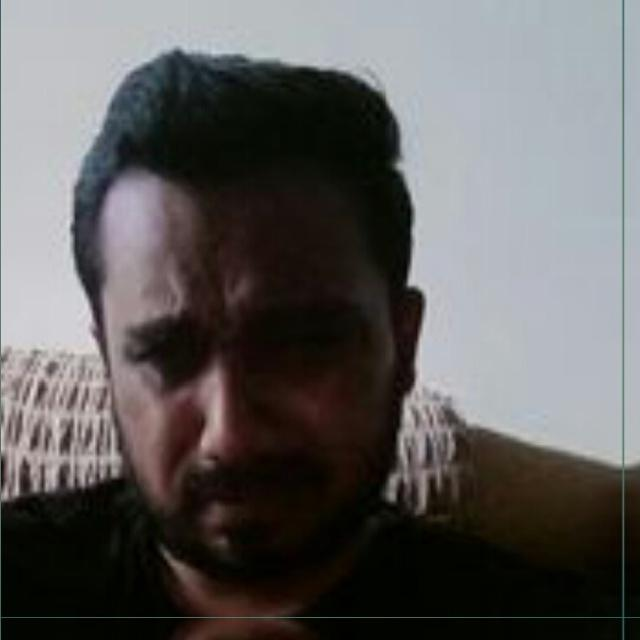Sad: (66, 136, 425, 556)
